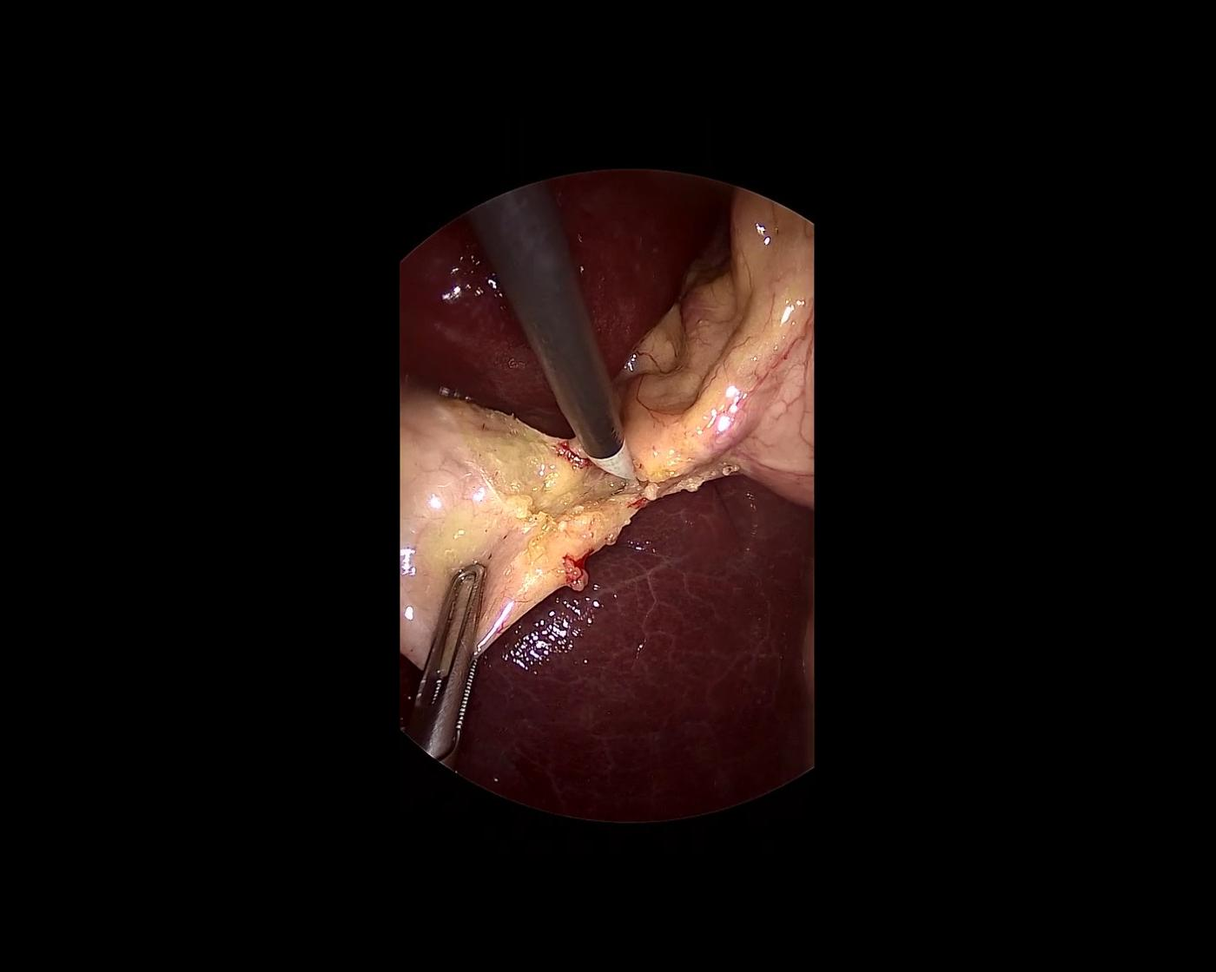Cautery: (471, 180, 639, 500)
Forceps: (400, 558, 503, 769)
Gallbladder: (400, 382, 609, 672)
Liver: (358, 73, 731, 467), (456, 465, 815, 826)
